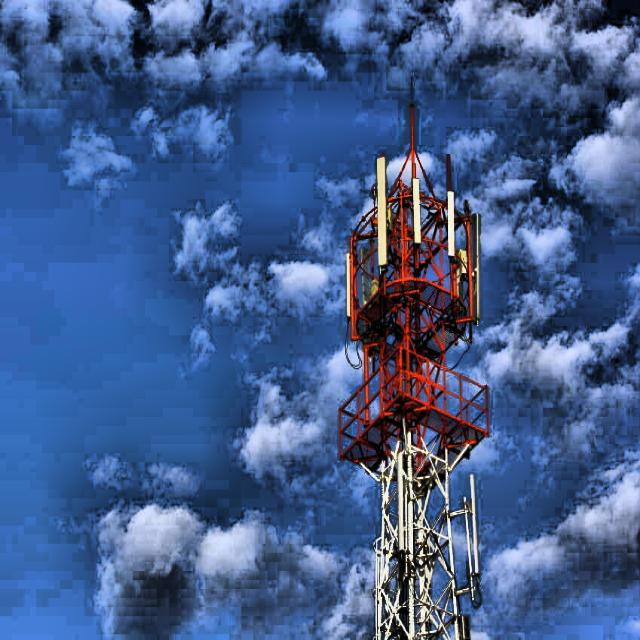antenna: (376, 156, 387, 266), (471, 213, 480, 323), (412, 177, 421, 243), (447, 190, 455, 256), (345, 252, 351, 318)
